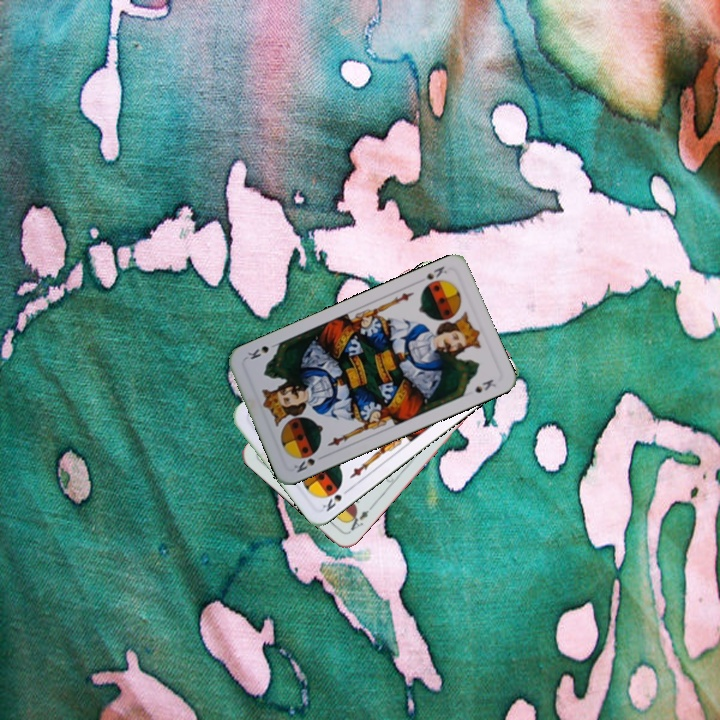EA: (343, 502, 376, 533)
SK: (318, 484, 353, 514), (290, 451, 328, 475), (422, 262, 449, 282)
